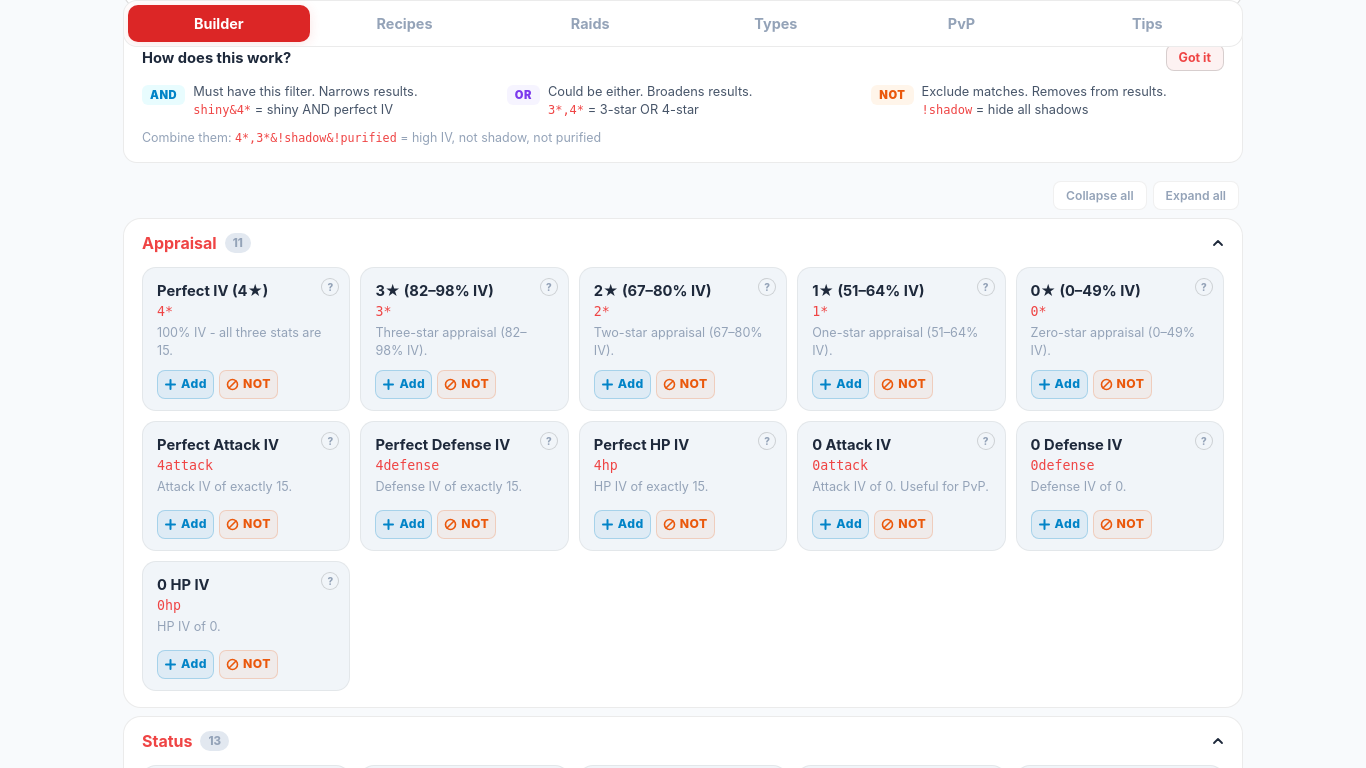
Test case: App › shows AND/OR/NOT buttons after first filter is added
(page scrolled)
Click the button "Add " below "100% IV - all three stats are 15." at (185, 384), box [157,370,214,399]
(page scrolled)
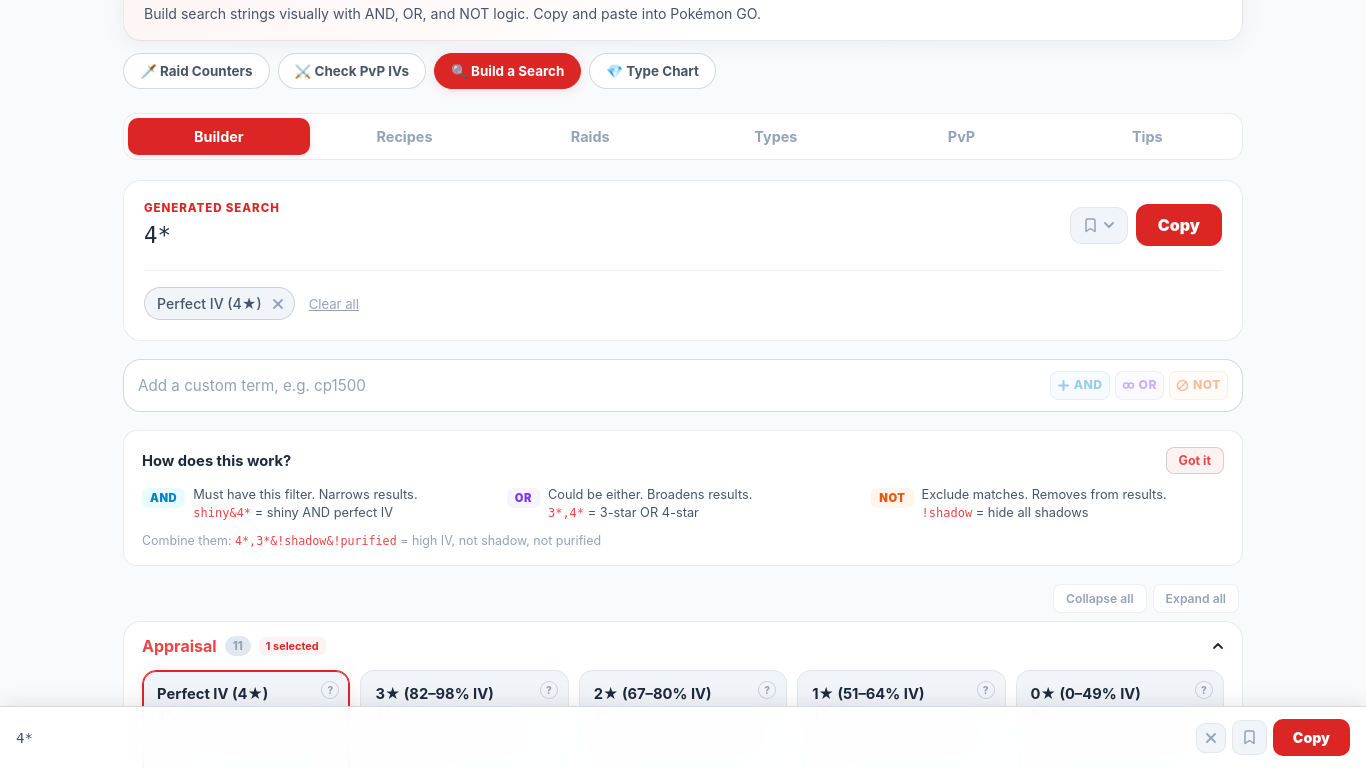
Expected: the button "NOT" is shown, [1193,377,1221,392]
Result: the button "AND" is shown at [1074,377,1103,392]
Result: the button "OR" is shown at [1139,377,1157,392]
